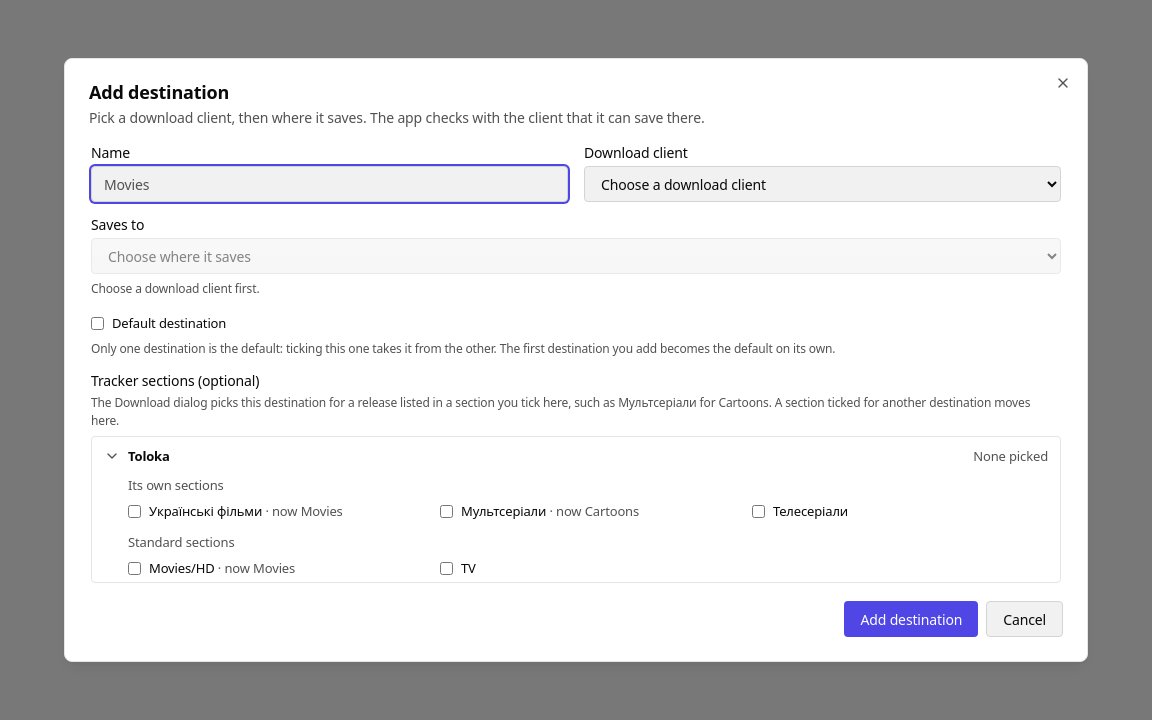
DestinationDialog folders › names each folder by its libraries or as the client's download folder, then its path
Select "Local Transmission" in the dropdown labelled "Download client" at (822, 184), box [584,166,1061,202]
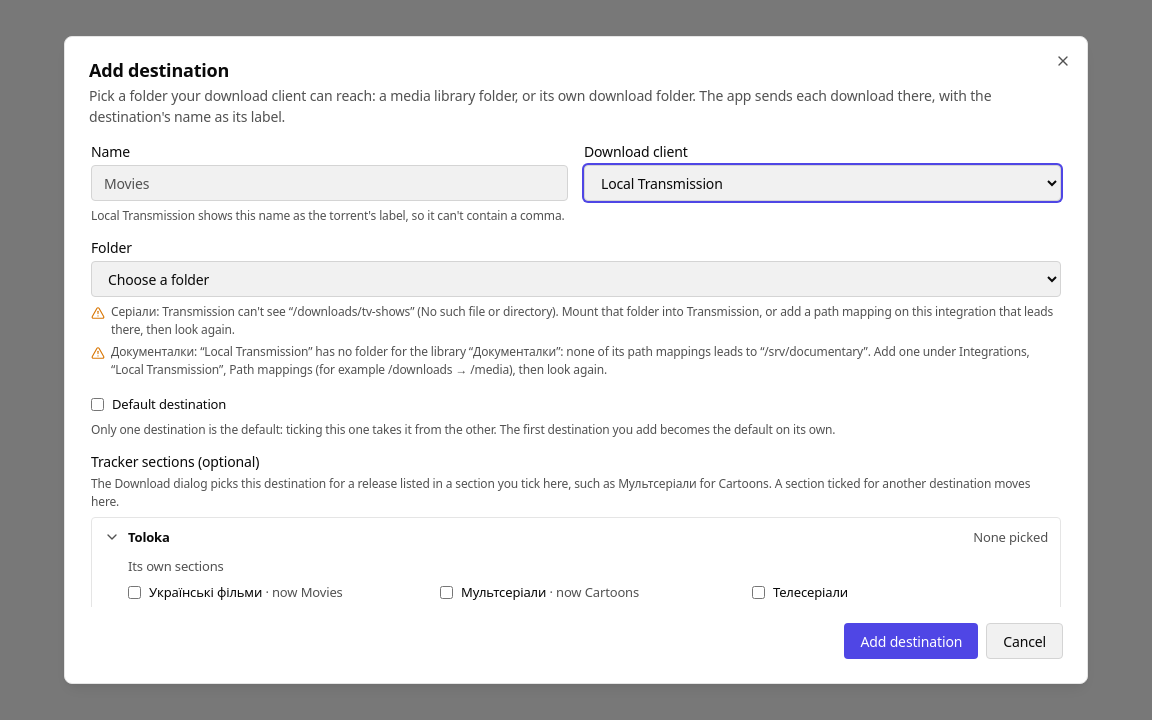
Now the dropdown labelled "Folder" is enabled, box [91,261,1061,297]
